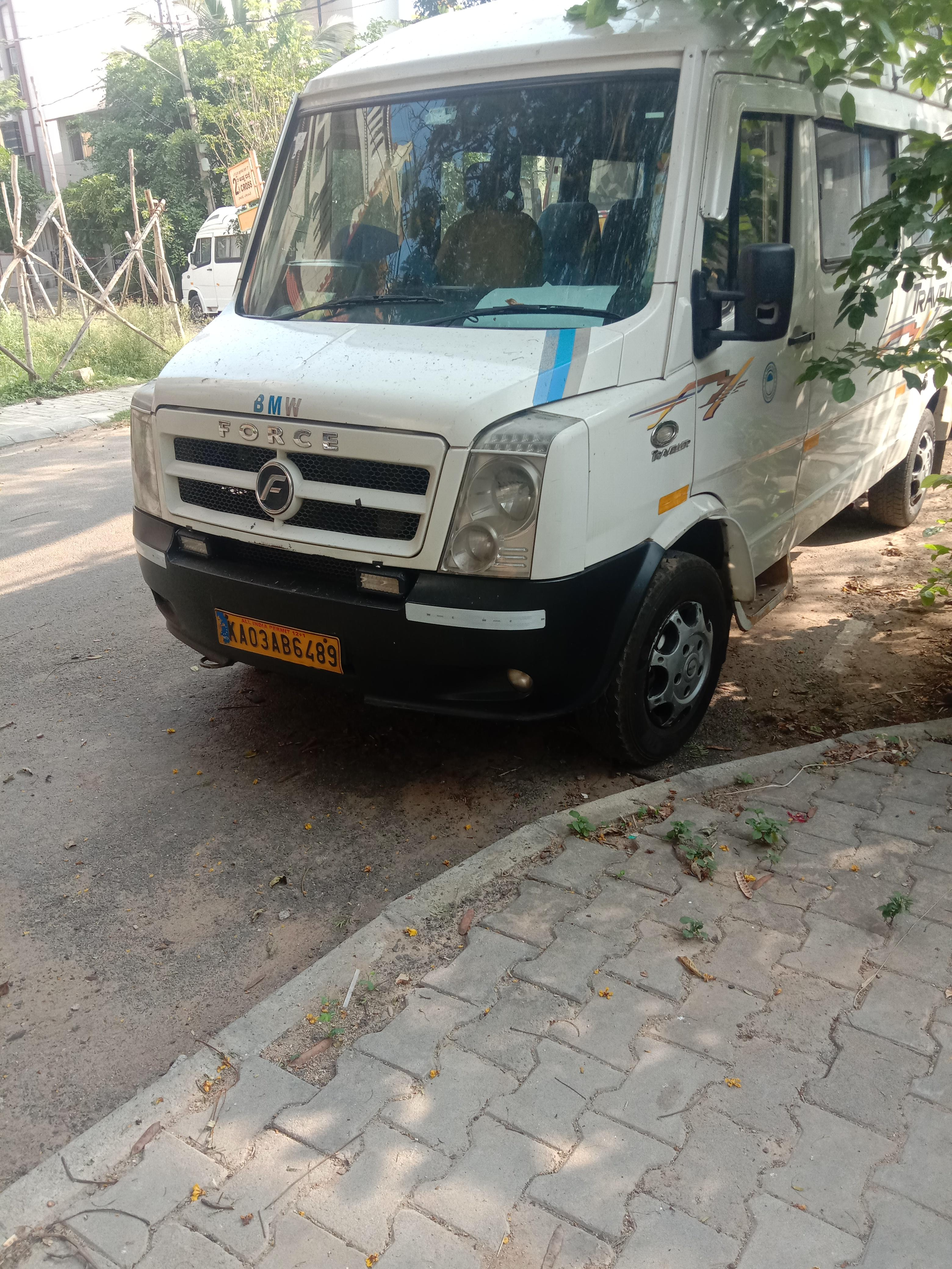Non-emergency: (62, 8, 952, 770), (190, 0, 952, 758)
